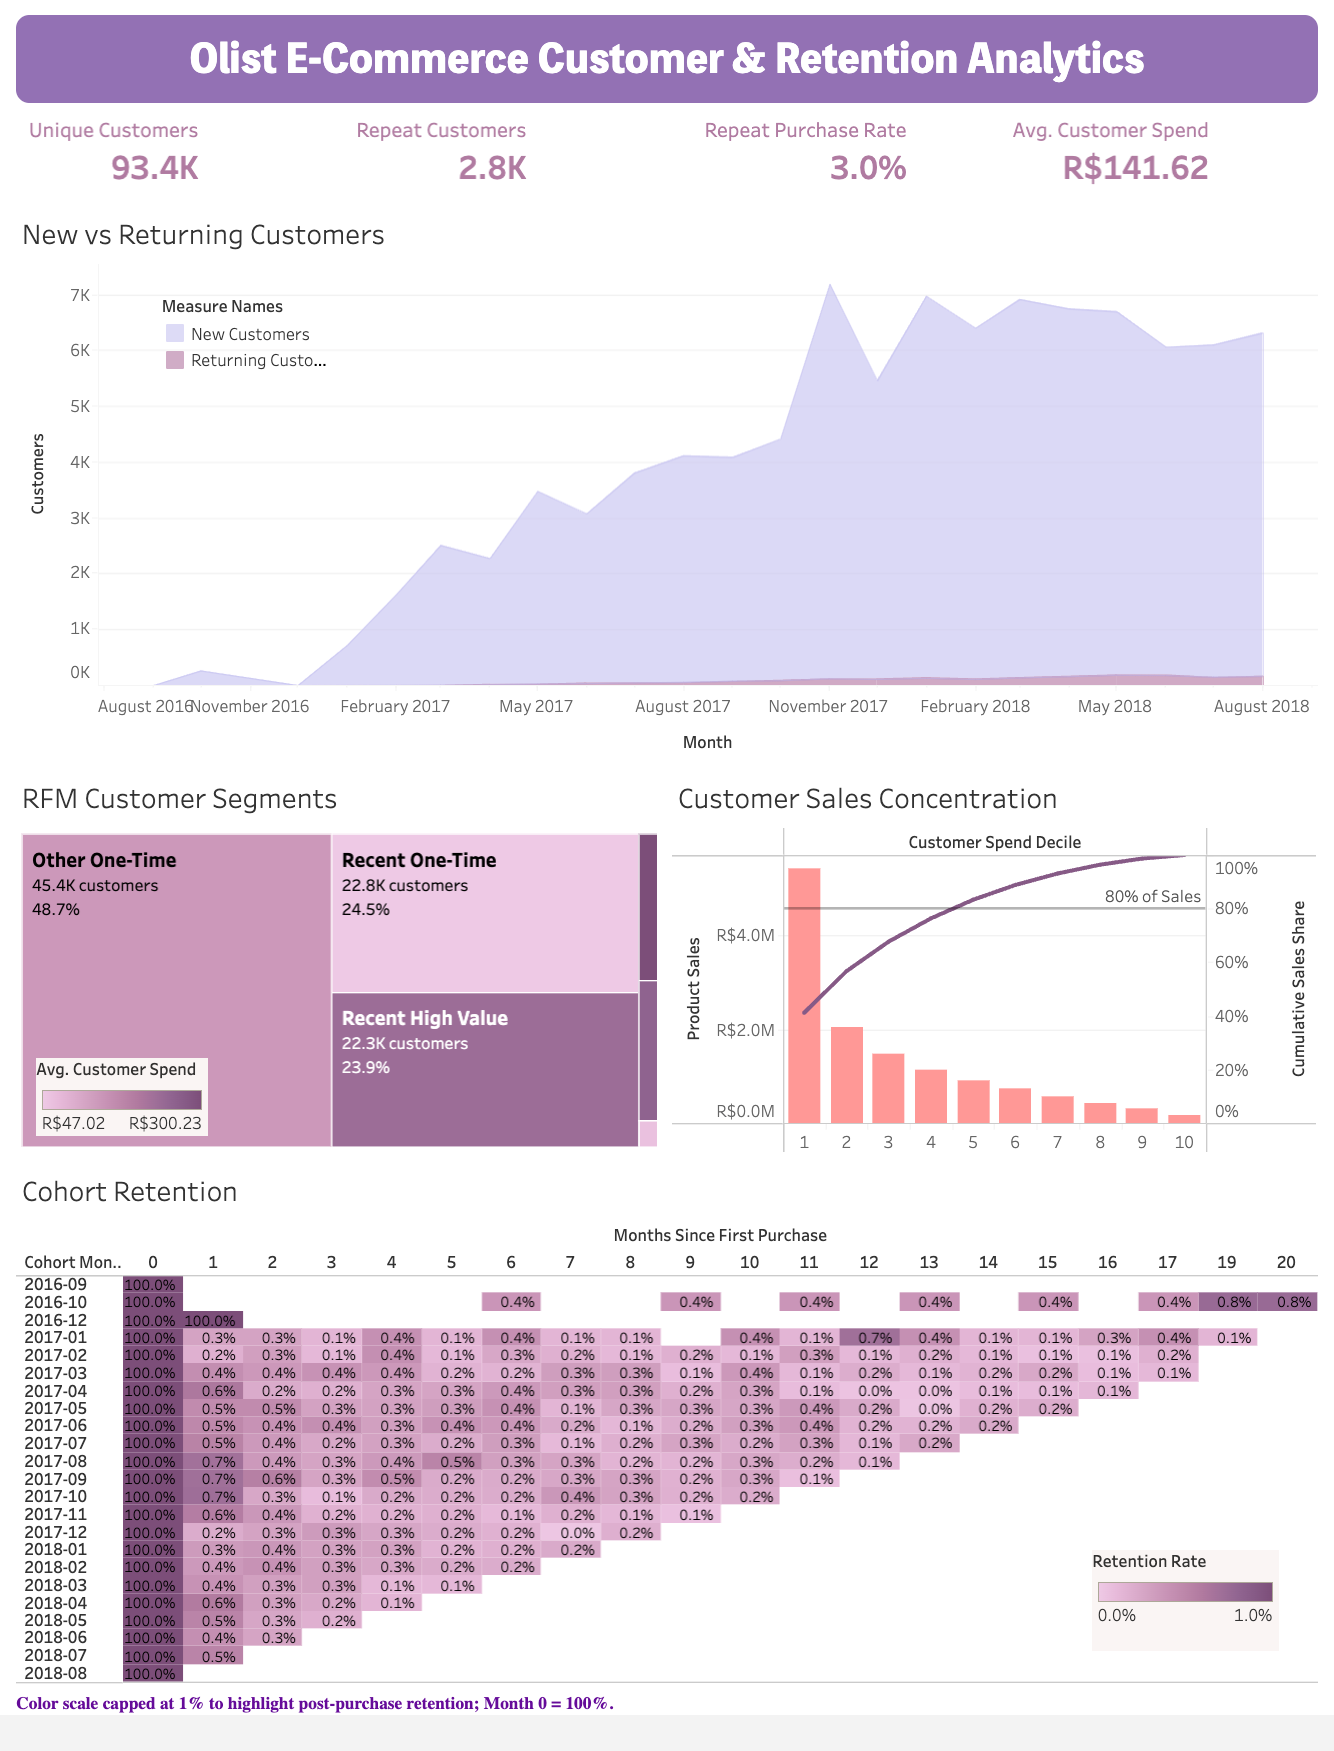

Layout of this report page (visuals, bound fields, positions):
{"tool":"tableau","page":{"name":"Dashboard 2","canvas":[1000,1300],"ordinal":1},"visuals":[{"type":"text","box":[8,8,984,75.9]},{"type":"worksheet","title":"KPI - Unique Customers","mark":"Automatic","box":[8,84,246,66]},{"type":"worksheet","title":"KPI - Repeat Customers","mark":"Automatic","box":[254,84,246,66]},{"type":"worksheet","title":"KPI - Repeat Purchase Rate","mark":"Automatic","box":[500,84,246,66]},{"type":"worksheet","title":"Avg. Customer Spend","mark":"Automatic","box":[746,84,246,66]},{"type":"worksheet","title":"New vs Returning Customers","mark":"Area","cols":["Calculation_3549060040617989"],"box":[8,150,984,423]},{"type":"legend","title":"New vs Returning Customers","param":"[federated.05p3h8z1f4jrer1gu6kpn0v1uay6].[:Measure Names]","box":[121,222,147,58]},{"type":"worksheet","title":"RFM Customer Segments","mark":"Automatic","box":[8,573,492,321]},{"type":"worksheet","title":"Customer Sales Concentration","mark":"Bar","rows":["product_sales","Calculation_3549060050972681"],"cols":["spend_decile"],"box":[500,573,492,321]},{"type":"legend","title":"RFM Customer Segments","param":"[federated.1n937xa0nmdlnm12jtfcs1i0jeqe].[avg:avg_monetary_value:qk]","box":[26,820,129,59]},{"type":"worksheet","title":"Cohort Retention","mark":"Square","rows":["cohort_month"],"cols":["month_number"],"box":[8,894,984,398]},{"type":"legend","title":"Cohort Retention","param":"[federated.15lz18n0ae8juc16xmeyx1gzalws].[avg:retention_rate_pct:qk]","box":[819,1163,140,76]}]}

Visuals, with their boxes in screenshot pixels (x1, y1, x2, y2), scaled from the page's 1000x1300 canvas onto the 1334x1751 screenshot:
text: [x1=11, y1=11, x2=1323, y2=113]
"KPI - Unique Customers" worksheet: [x1=11, y1=113, x2=339, y2=202]
"KPI - Repeat Customers" worksheet: [x1=339, y1=113, x2=667, y2=202]
"KPI - Repeat Purchase Rate" worksheet: [x1=667, y1=113, x2=995, y2=202]
"Avg. Customer Spend" worksheet: [x1=995, y1=113, x2=1323, y2=202]
"New vs Returning Customers" worksheet (Area marks): [x1=11, y1=202, x2=1323, y2=772]
"New vs Returning Customers" legend: [x1=161, y1=299, x2=358, y2=377]
"RFM Customer Segments" worksheet: [x1=11, y1=772, x2=667, y2=1204]
"Customer Sales Concentration" worksheet (Bar marks): [x1=667, y1=772, x2=1323, y2=1204]
"RFM Customer Segments" legend: [x1=35, y1=1104, x2=207, y2=1184]
"Cohort Retention" worksheet (Square marks): [x1=11, y1=1204, x2=1323, y2=1740]
"Cohort Retention" legend: [x1=1093, y1=1566, x2=1279, y2=1669]
